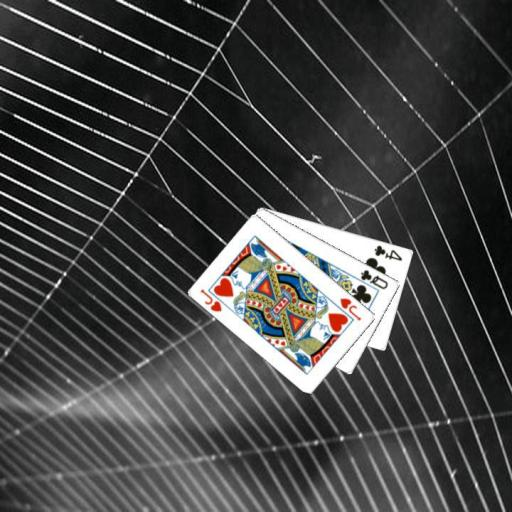4C: (371, 242, 404, 262)
JH: (337, 295, 363, 322), (198, 286, 223, 313)
QC: (358, 267, 390, 291)
